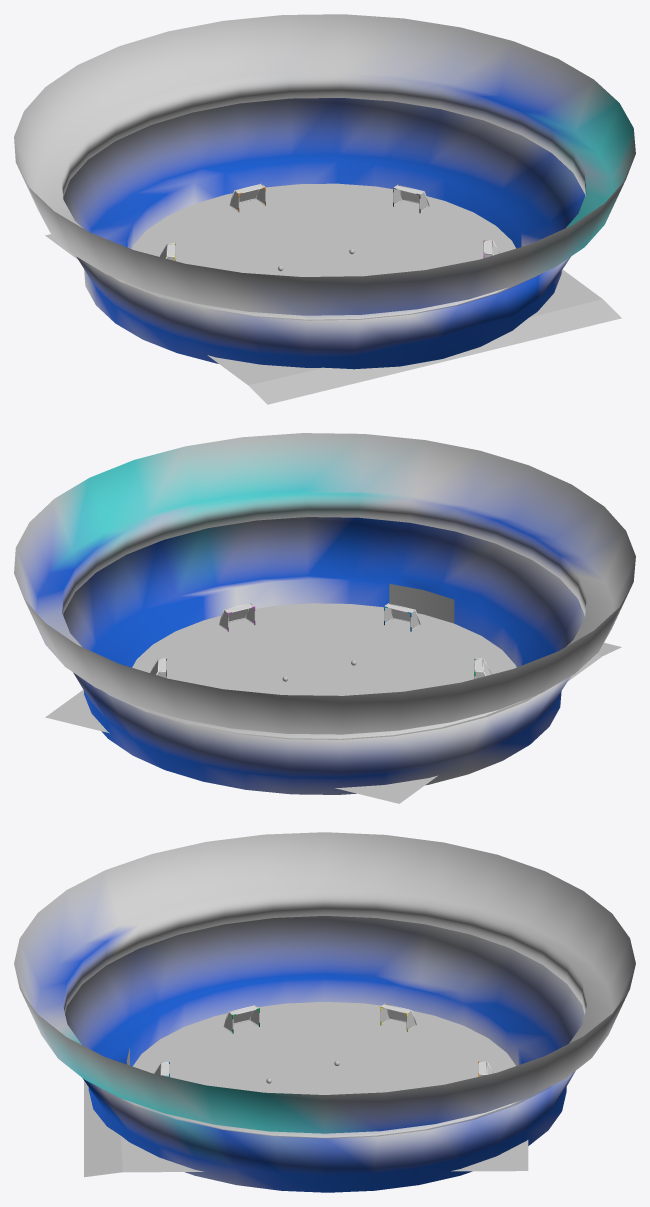
Rendered from Example.fbx.
3 renders of one model, top to bottom at view 1: azimuth 30°, elevation 25°; view 2: azimuth 150°, elevation 25°; view 3: azimuth 270°, elevation 25°, orthographic.
Visible parts, largest first — view 1: Bleacher_V.001, Ground_M.001; view 2: Bleacher_V.001, Ground_M.001, StartMesh_V.001; view 3: Bleacher_V.001, Ground_M.001.
Boxes of the visible parts, x1,y1,x2,y2 form: Bleacher_V.001: (14, 14, 635, 369); Ground_M.001: (45, 183, 621, 404); Bleacher_V.001: (14, 433, 635, 794); Ground_M.001: (45, 603, 621, 803); StartMesh_V.001: (389, 583, 454, 623); Bleacher_V.001: (14, 832, 635, 1192); Ground_M.001: (84, 1002, 528, 1177).
Bounding box in the file's own units: 19872 × 4613 × 19871.
